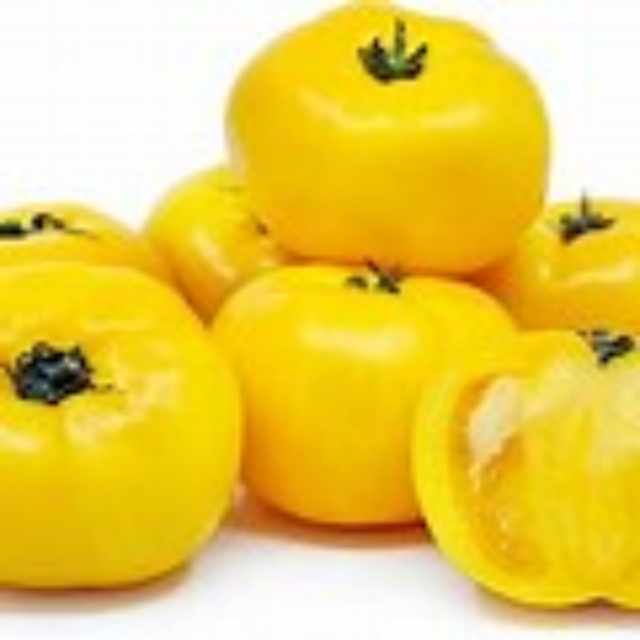tomato: (3, 203, 240, 584), (222, 3, 551, 273), (209, 266, 512, 534), (412, 328, 639, 600)
